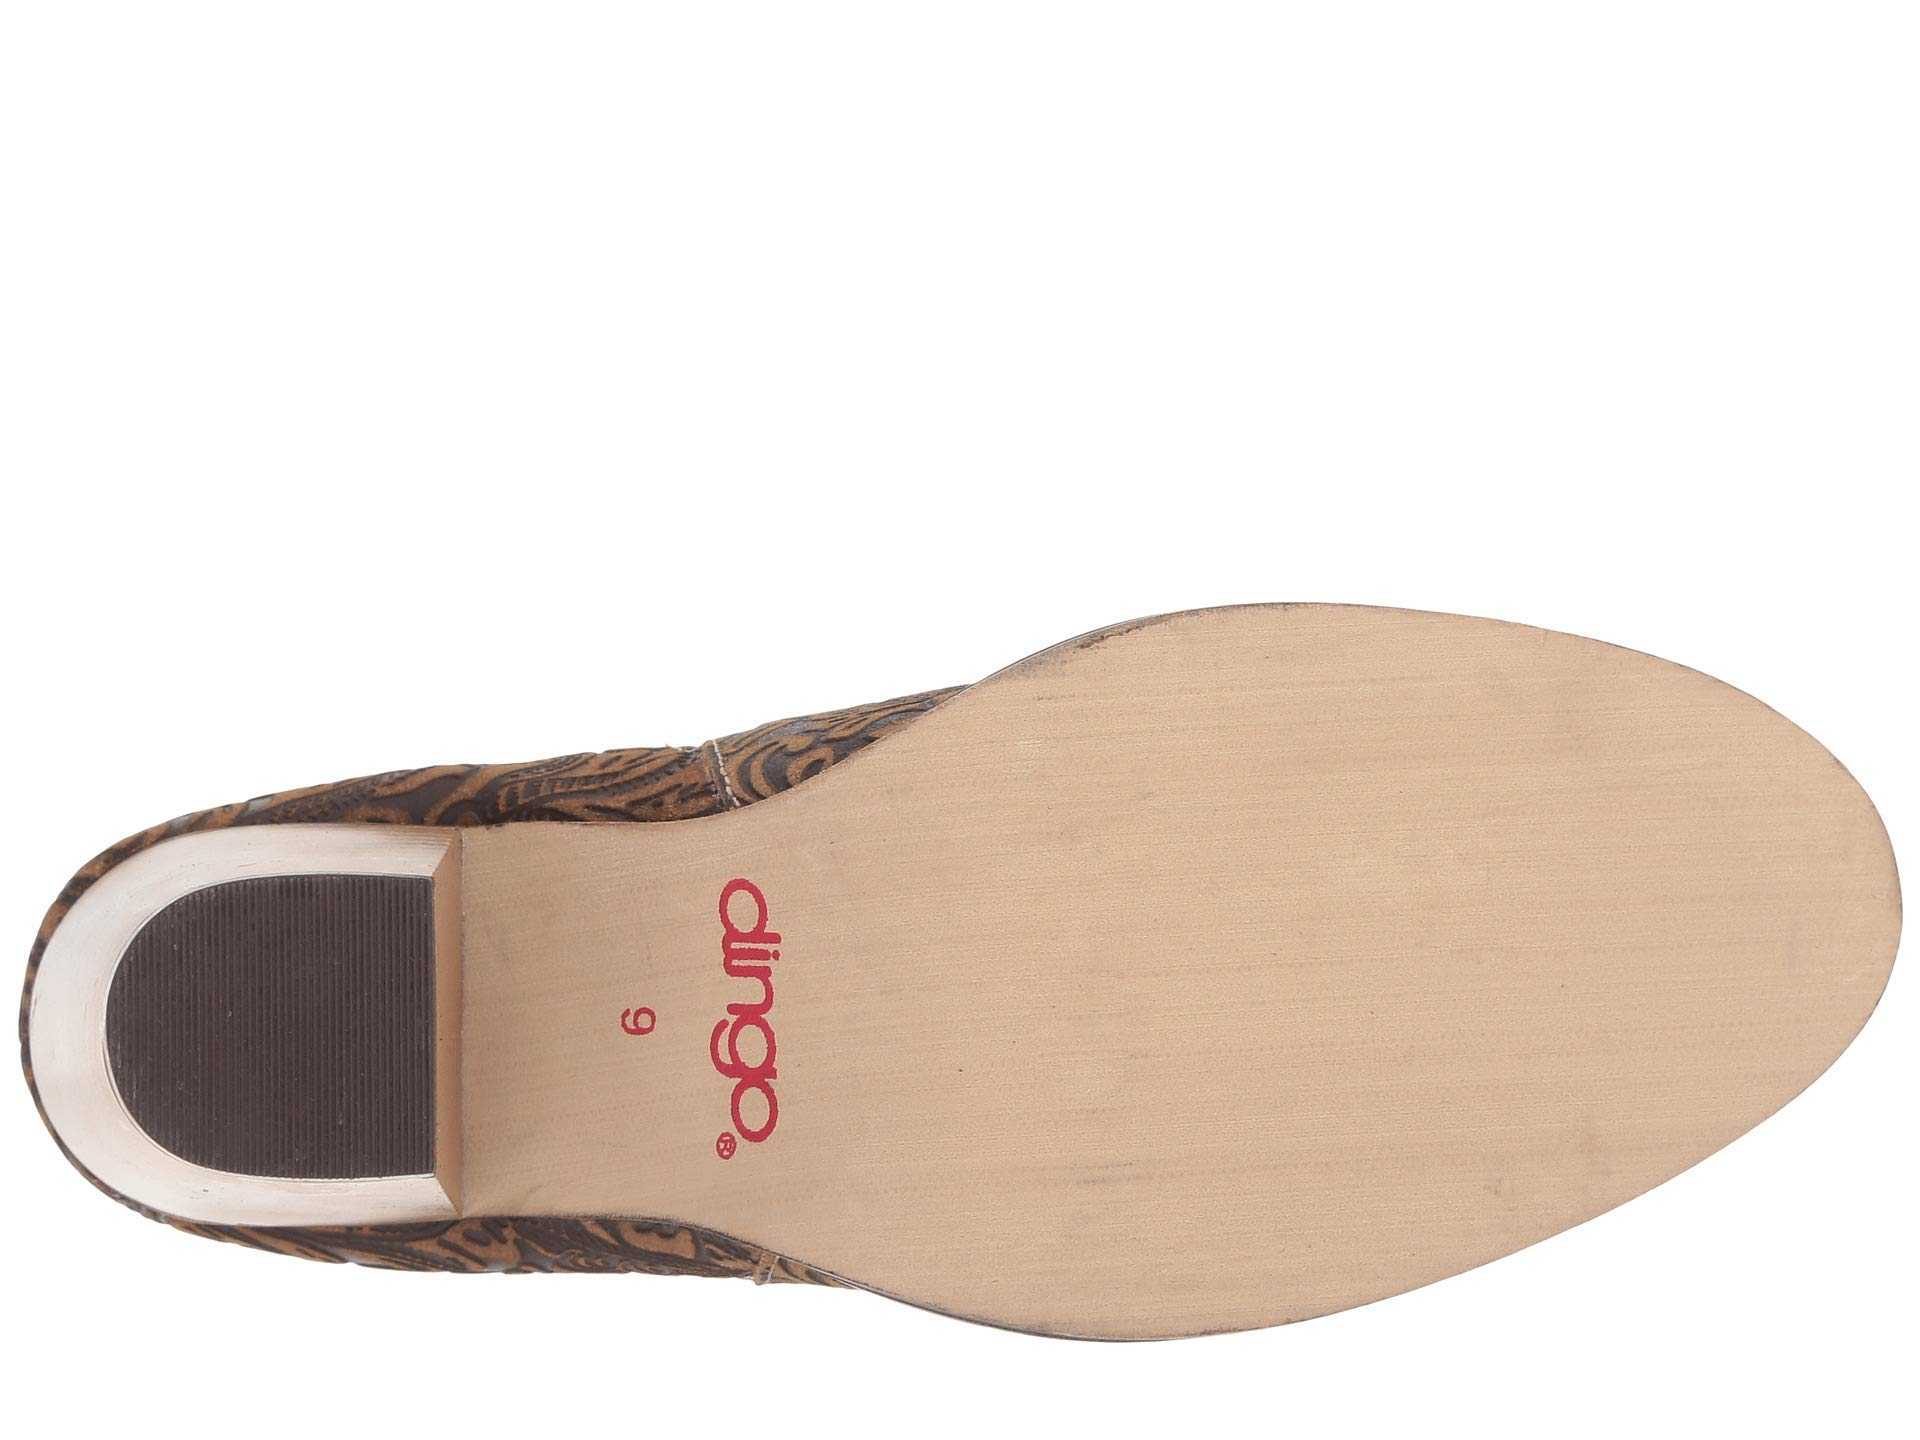circle: (558, 833, 835, 1193)
line: (141, 891, 410, 1122)
text: (558, 833, 835, 1193)
